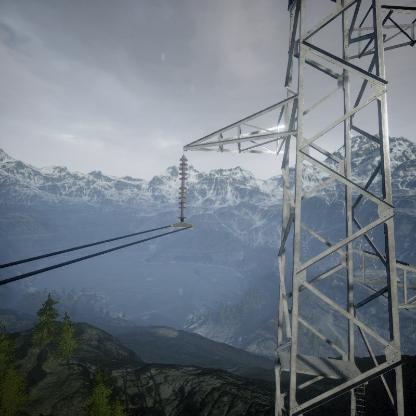insulator: (175, 155, 190, 222)
